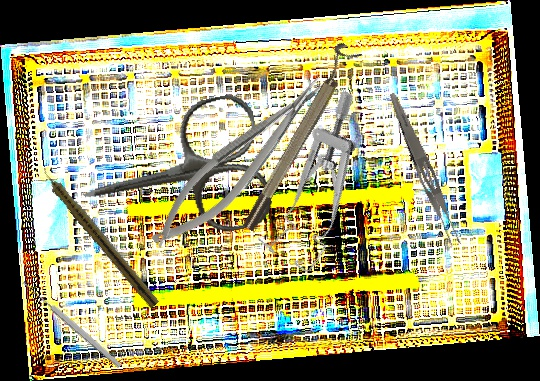Dressing Forceps: (381, 90, 466, 250)
Fixation Ring: (231, 40, 364, 234)
Handpiece: (37, 164, 163, 309)
Iris Scissors: (70, 90, 276, 260)
Needle Holder: (137, 66, 344, 260)
Speculum: (243, 88, 406, 277)
Surgical Spoon: (21, 278, 123, 370)
